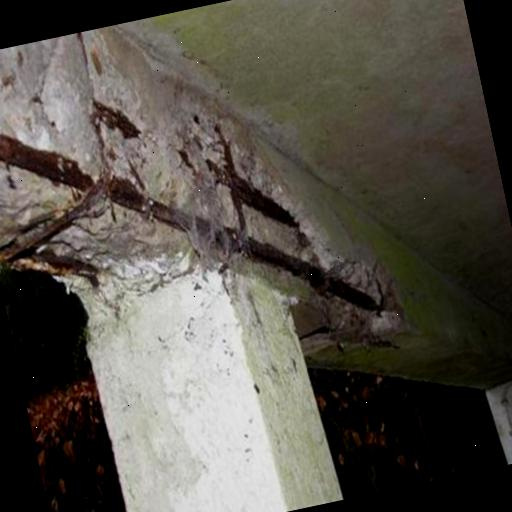spalling: (0, 25, 389, 328)
